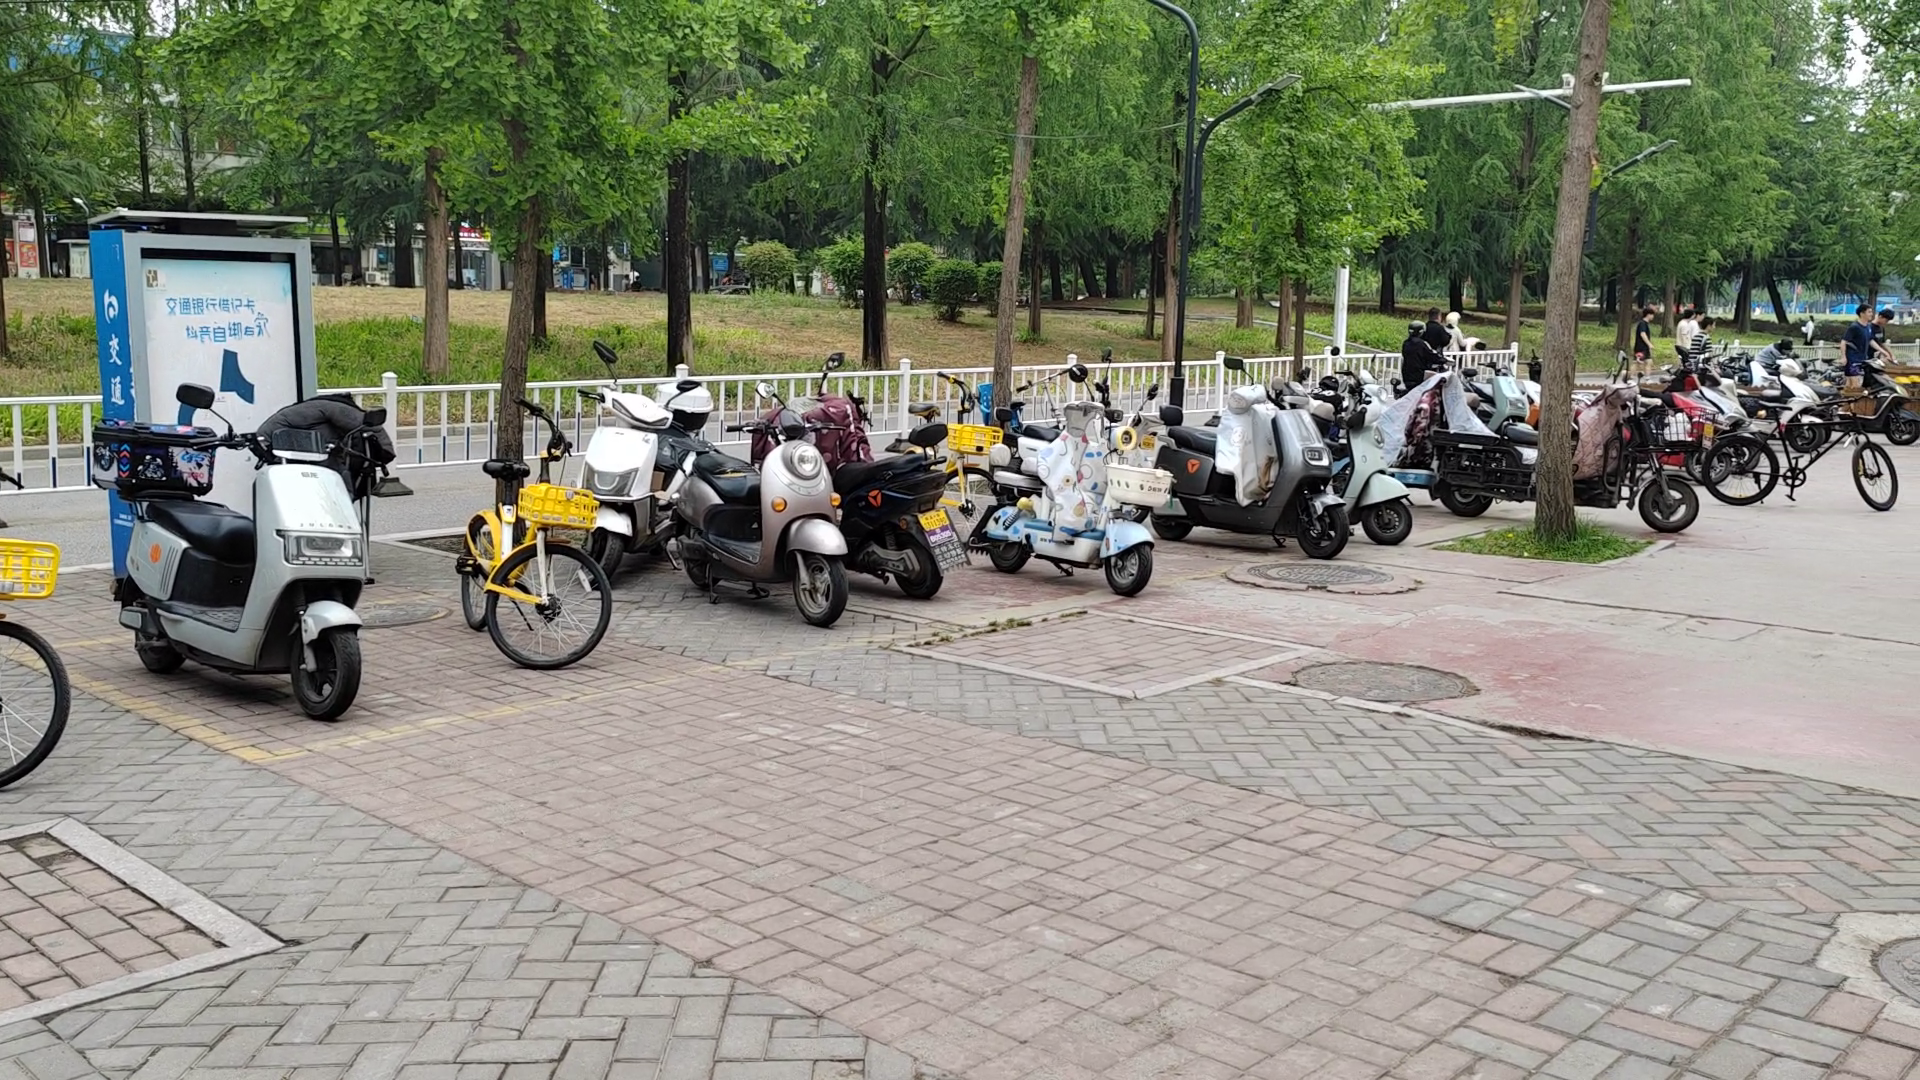others: (111, 369, 393, 715), (1422, 355, 1712, 555), (982, 359, 1176, 603), (1149, 347, 1356, 575), (686, 400, 855, 644), (789, 361, 935, 618), (589, 349, 740, 597), (1336, 361, 1516, 525), (1724, 381, 1920, 522)
shared_bike_meituan: (435, 384, 608, 673), (907, 359, 1010, 560)
